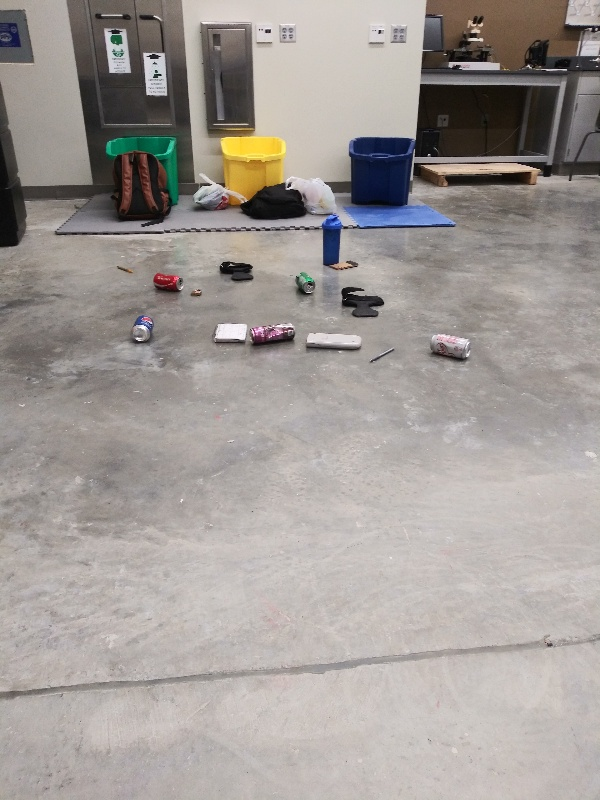can: (425, 328, 478, 362), (245, 322, 298, 350), (149, 271, 188, 294), (129, 314, 160, 342), (291, 268, 315, 299)
